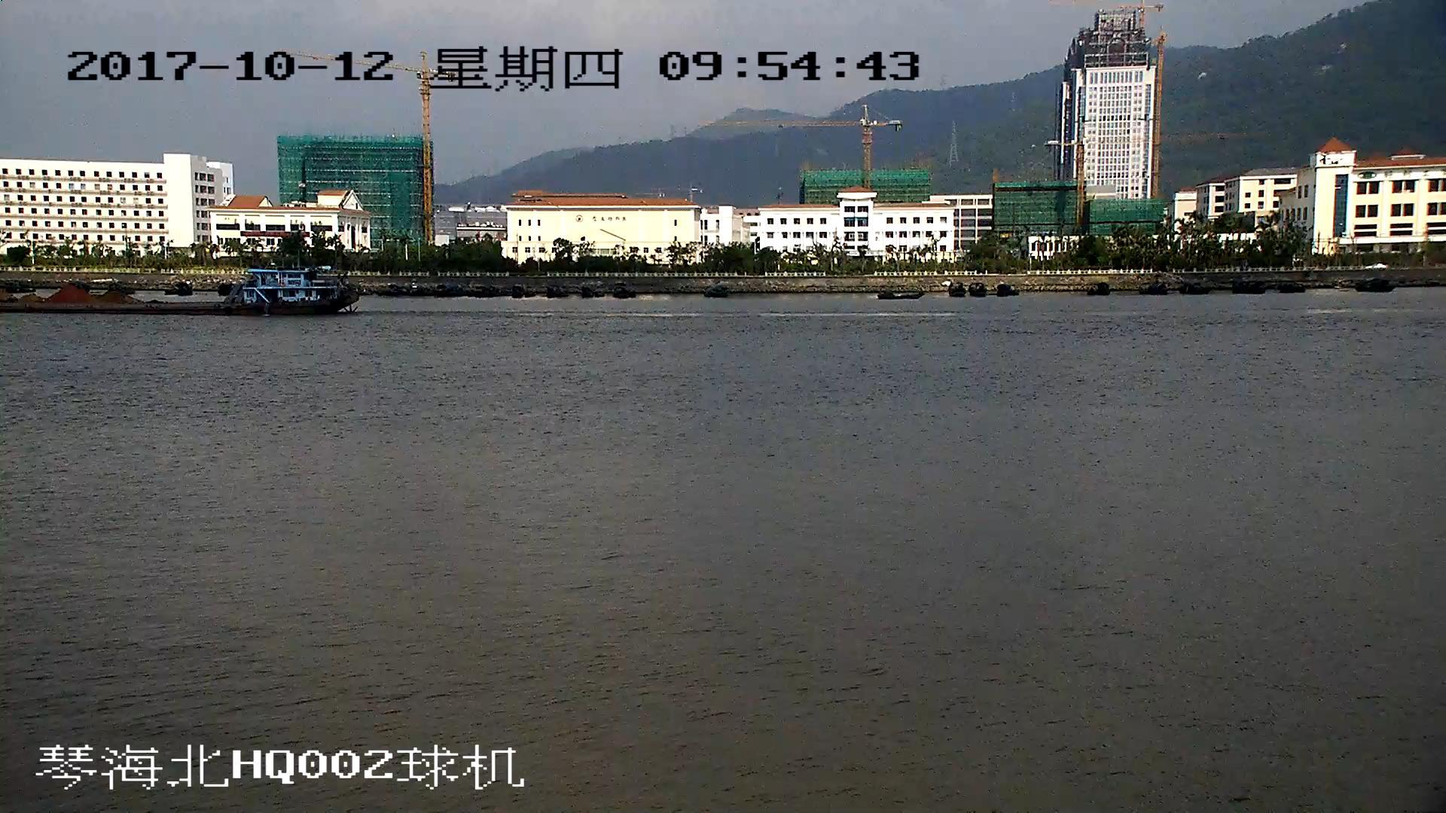ore carrier: (0, 260, 362, 315)
